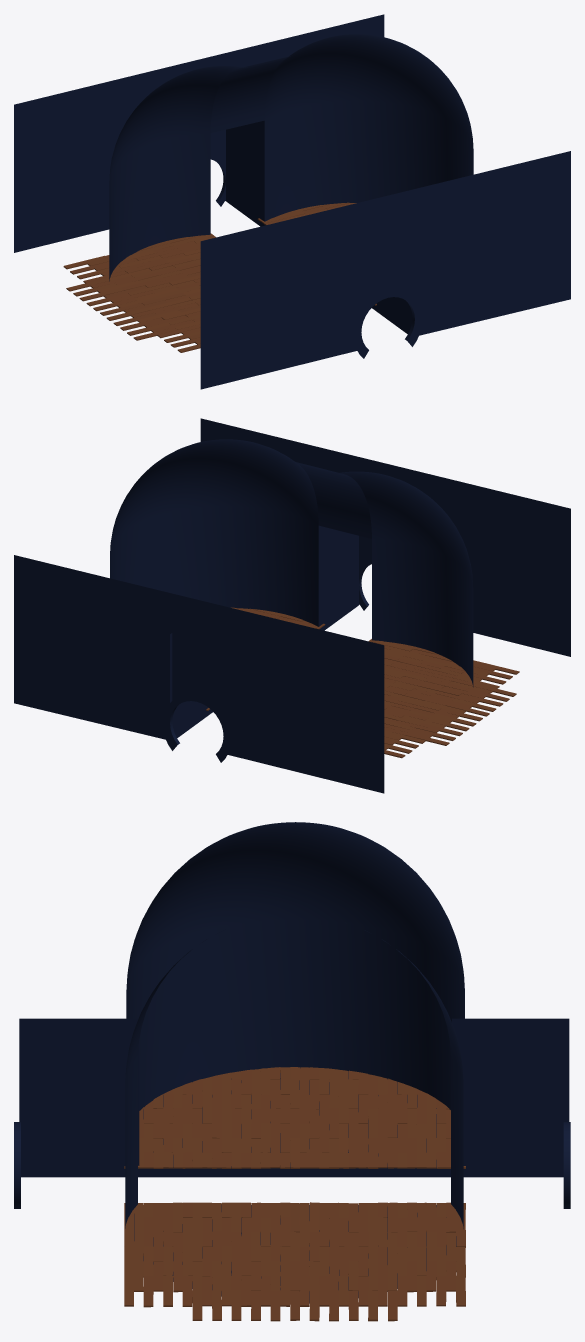
File: room3.1.fbx
3 views of the same model, one above another, from view 1: azimuth 30°, elevation 25°; view 2: azimuth 150°, elevation 25°; view 3: azimuth 270°, elevation 25° (orthographic). The views are drawn at different scales.
Visible parts, largest first — view 1: Cylinder; view 2: Cylinder; view 3: Cylinder.
Boxes of the visible parts, x1,y1,x2,y2 form: Cylinder: (14, 14, 570, 389); Cylinder: (14, 418, 570, 793); Cylinder: (14, 822, 570, 1321).
Bounding box in the file's own units: 2365 × 1320 × 2067.
